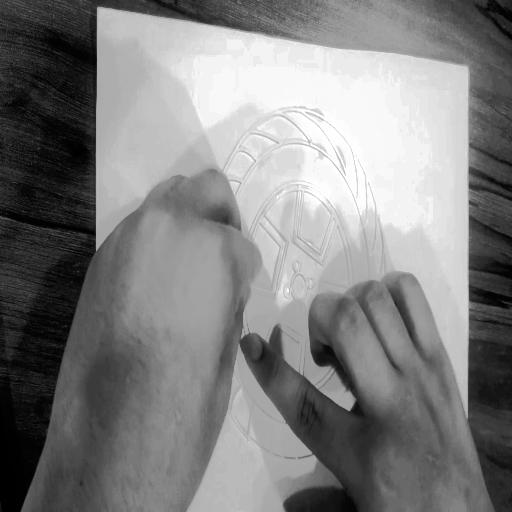tire: (198, 84, 398, 472)
top_left: (95, 1, 102, 14)
top_right: (465, 61, 472, 74)
